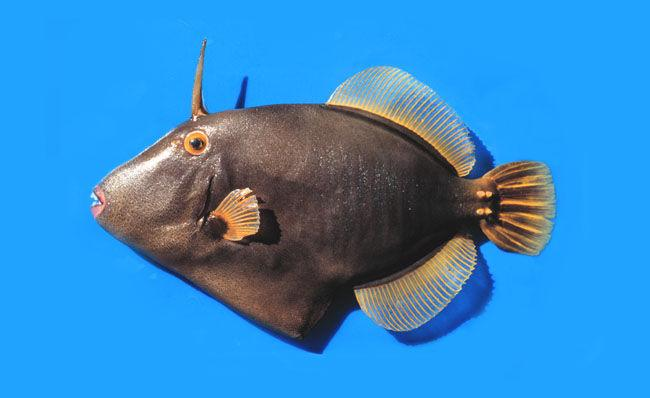fish: (91, 39, 558, 346)
